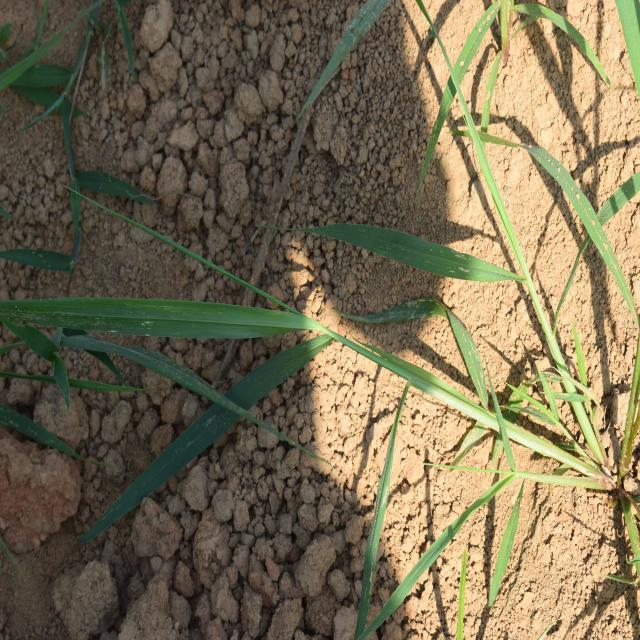green_foxtail: (90, 215, 550, 569)
